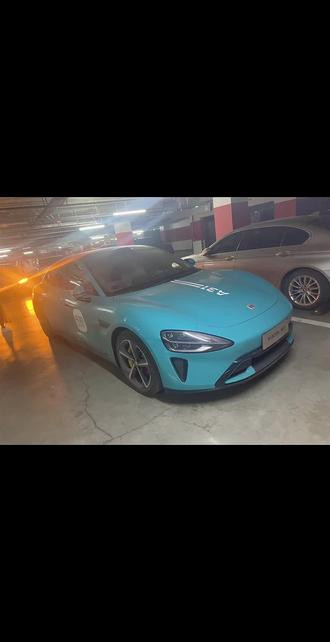su7: (34, 254, 296, 398)
